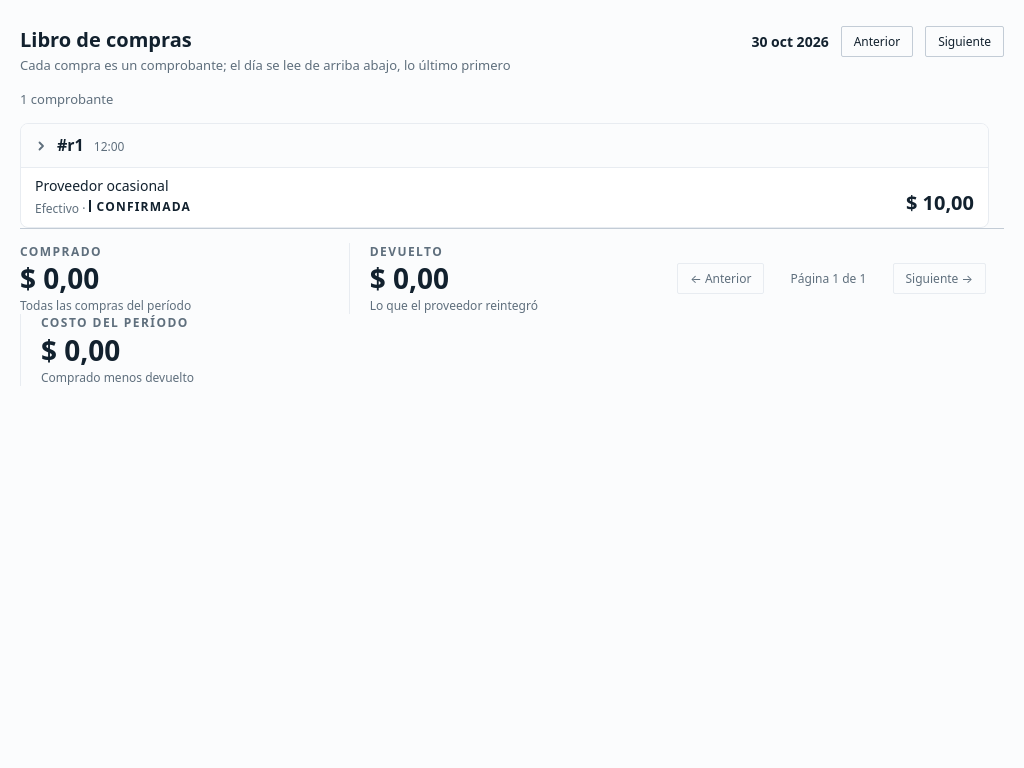
Test case: a recorded return whose reload fails › tells the operator the return landed, not that the book could not be read
Click the button "#r1 12:00 Proveedor ocasional Efectivo · Confirmada $ 10,00". click: coordinates (504, 146)
box: [20,123,989,228]
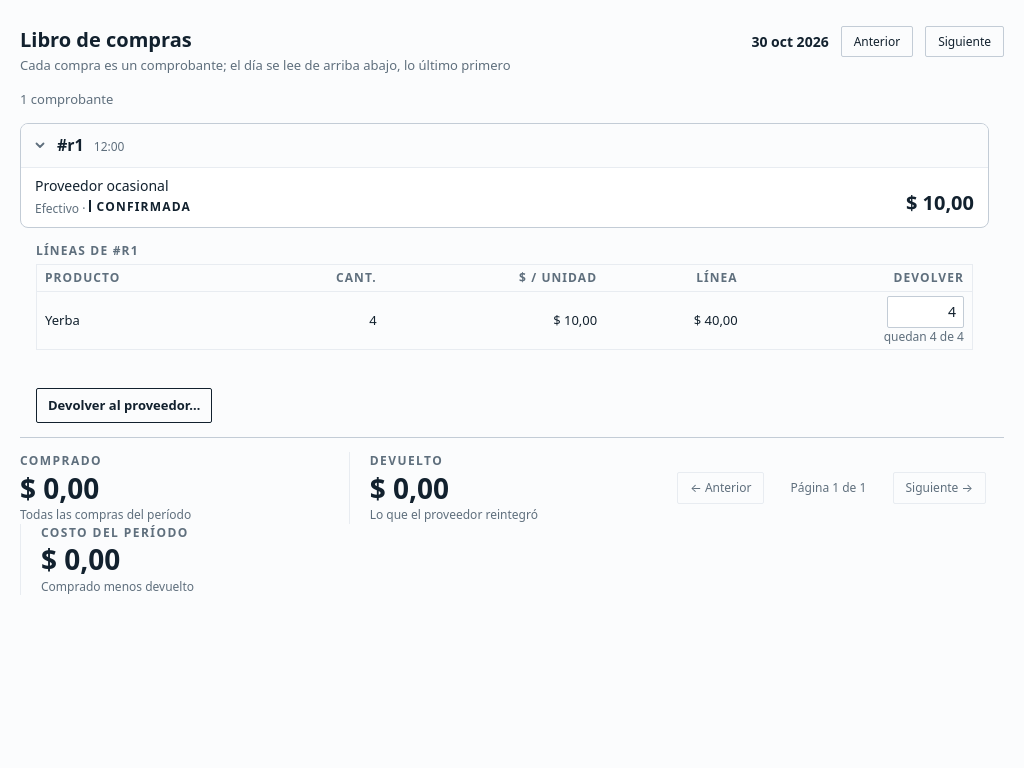
Click the button "Devolver al proveedor…". click: coordinates (124, 406)
box: [36,388,212,423]
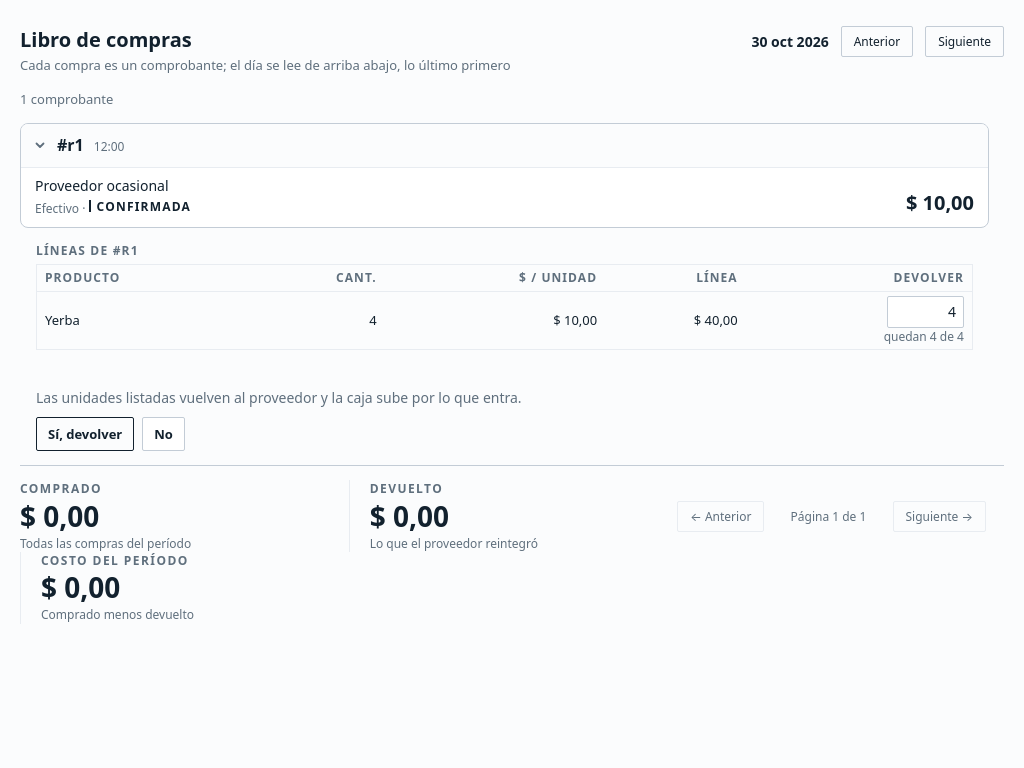
Click the button "Sí, devolver". click: coordinates (85, 434)
box: [36,417,134,451]
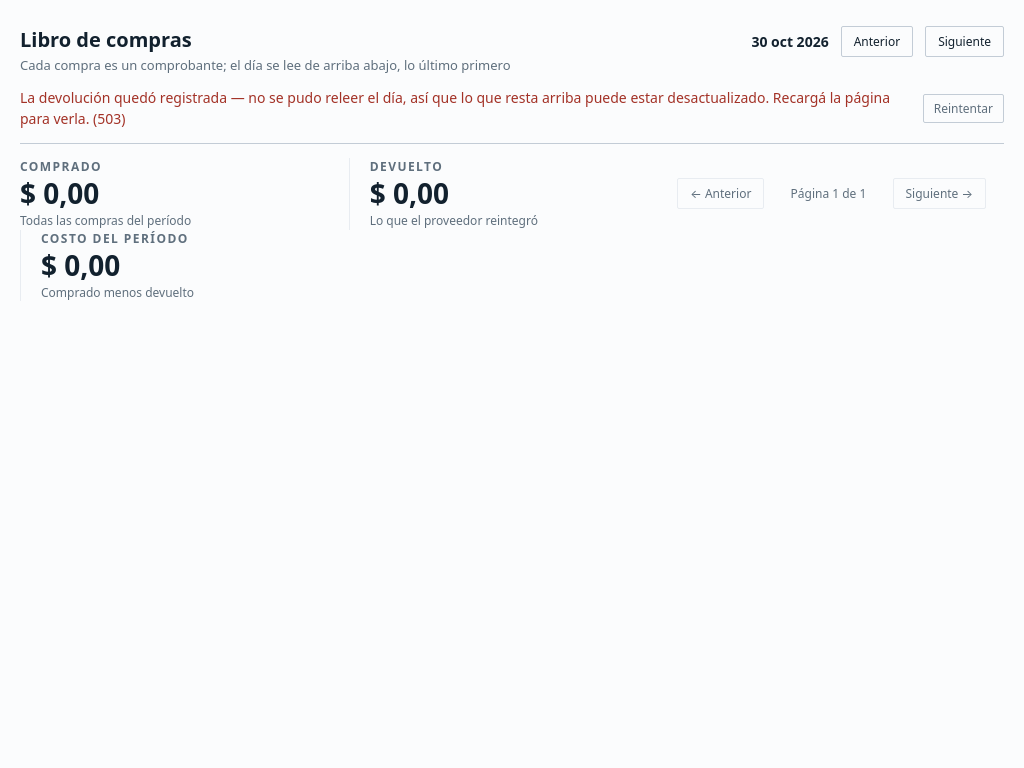
Result: the message shows "La devolución quedó registrada" at [20,88,890,128]
